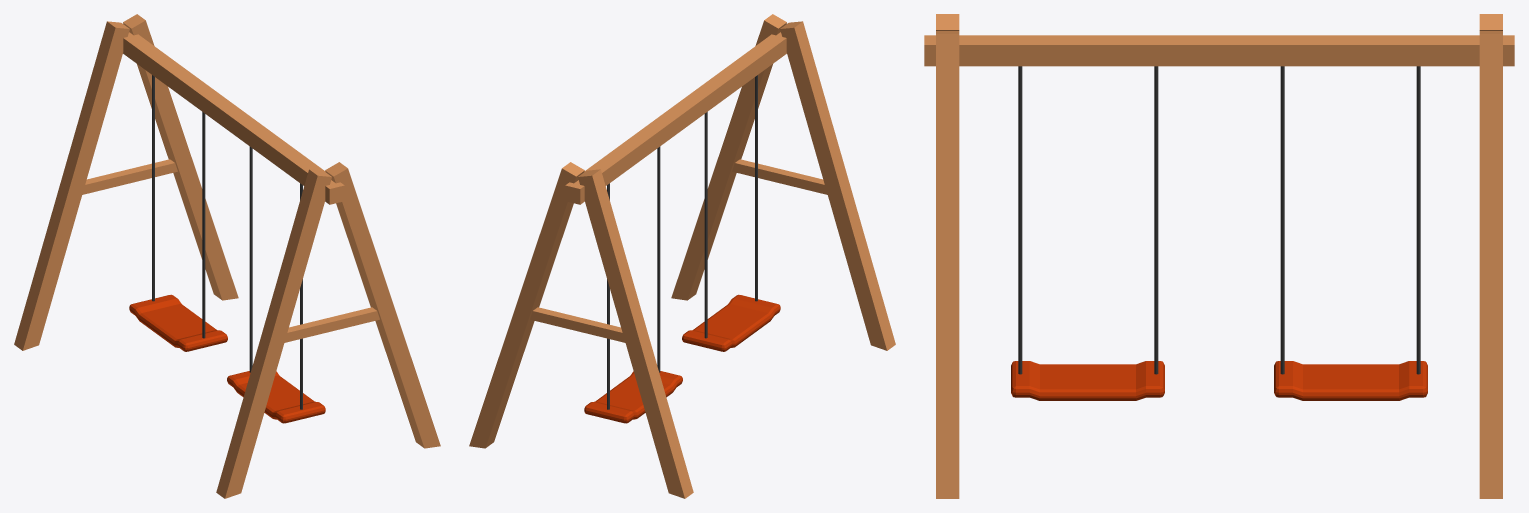
File: swing_set.glb
3 renders of one model, left to right at view 1: azimuth 30°, elevation 25°; view 2: azimuth 150°, elevation 25°; view 3: azimuth 270°, elevation 25°, orthographic. The views are drawn at different scales.
Visible parts, largest first — view 1: Swing; view 2: Swing; view 3: Swing.
Boxes of the visible parts, <box> form: Swing: <box>14,14,440,498</box>; Swing: <box>469,14,895,498</box>; Swing: <box>924,14,1514,498</box>.
Size of the model in its own units: 86.11 by 114 by 152.
1 material, 1 textured.
